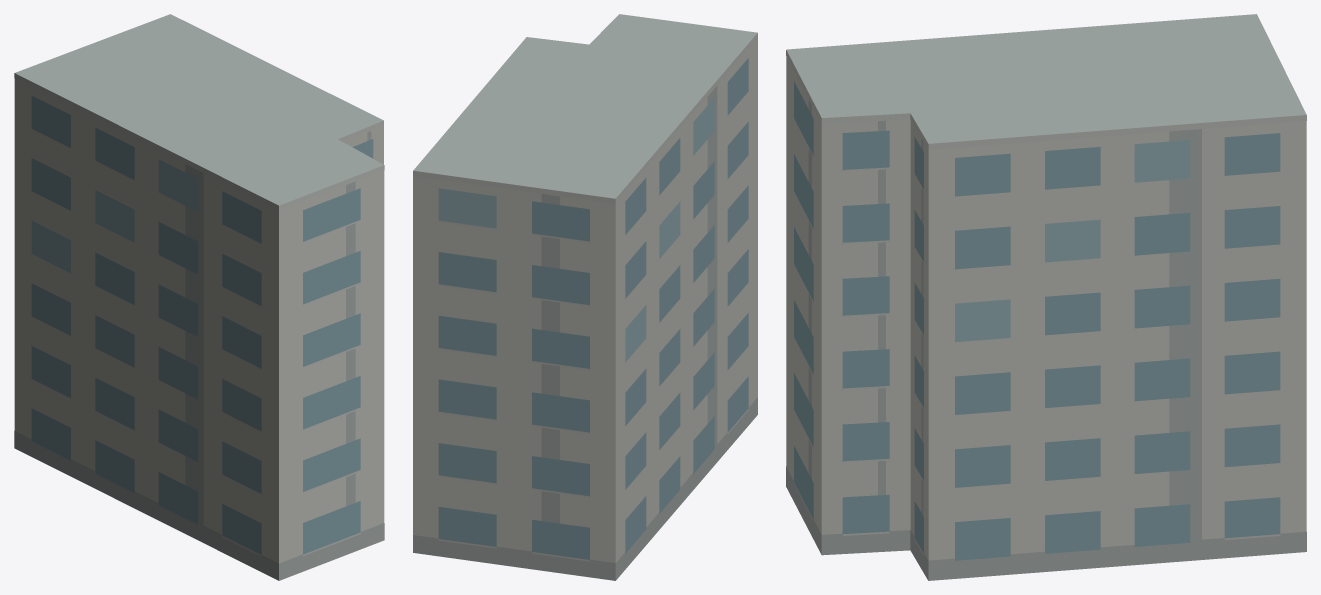
Rendered from survey-upis-32814613.glb.
3 views of the same model, side by side, from view 1: azimuth 30°, elevation 25°; view 2: azimuth 150°, elevation 25°; view 3: azimuth 270°, elevation 25° (orthographic). The views are drawn at different scales.
Parts seen in each view (by area): view 1: survey-upis-32814613.tmp; view 2: survey-upis-32814613.tmp; view 3: survey-upis-32814613.tmp.
Boxes of the visible parts, x1,y1,x2,y2 form: survey-upis-32814613.tmp: [14, 14, 384, 580]; survey-upis-32814613.tmp: [413, 14, 757, 580]; survey-upis-32814613.tmp: [786, 14, 1306, 580].
Bounding box in the file's own units: 11.13 × 17.45 × 18.85.
